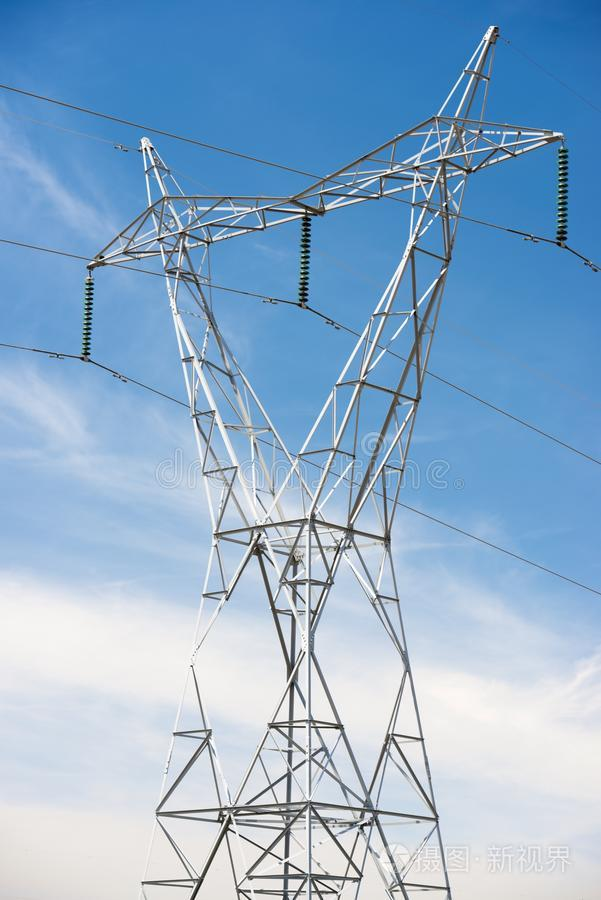insulator: (554, 146, 572, 243), (296, 213, 314, 304), (77, 281, 96, 357)
